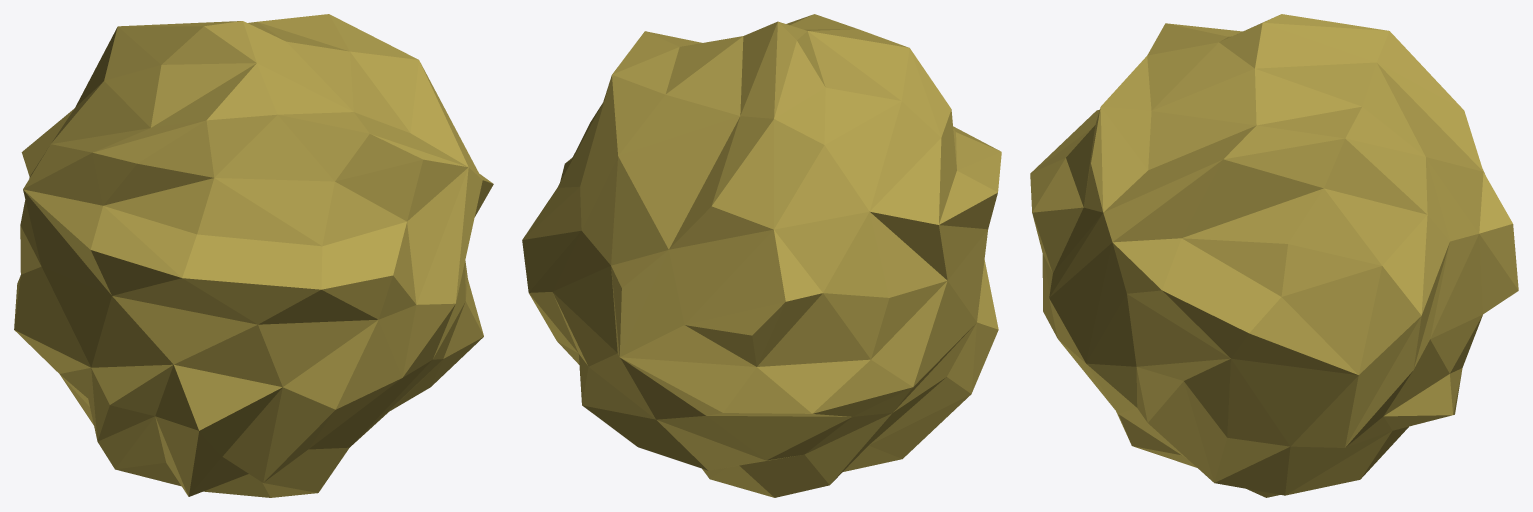
Rendered from dry_planet2.fbx.
3 renders of one model, left to right at view 1: azimuth 30°, elevation 25°; view 2: azimuth 150°, elevation 25°; view 3: azimuth 270°, elevation 25°, orthographic. The views are drawn at different scales.
Visible parts, largest first — view 1: dry_planet2; view 2: dry_planet2; view 3: dry_planet2.
Part boxes in pixels (<box>): dry_planet2: <box>14,14,493,497</box>; dry_planet2: <box>522,14,1001,497</box>; dry_planet2: <box>1030,14,1518,497</box>.
Size of the model in its own units: 215 by 225 by 222.
